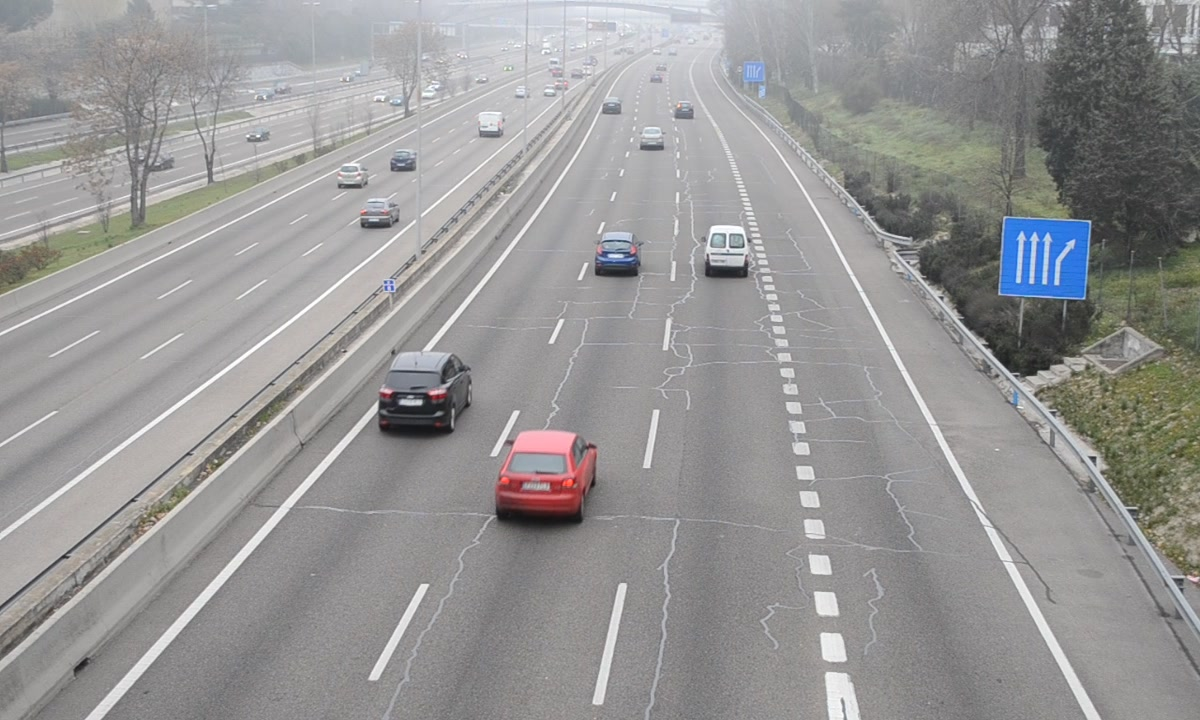car: (495, 431, 594, 518), (376, 352, 470, 430), (595, 231, 641, 276), (638, 125, 666, 152)
van: (706, 226, 750, 276)
